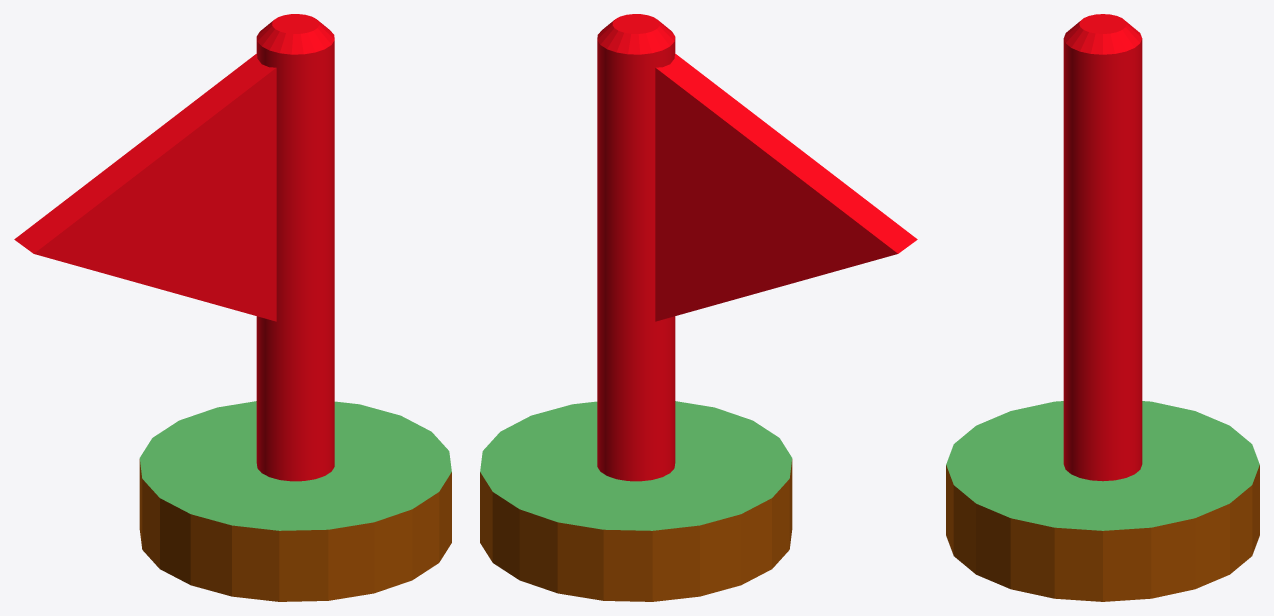
The model's file is EndMarker.fbx.
3 renders of one model, left to right at view 1: azimuth 30°, elevation 25°; view 2: azimuth 150°, elevation 25°; view 3: azimuth 270°, elevation 25°, orthographic.
Visible parts, largest first — view 1: EndMarker; view 2: EndMarker; view 3: EndMarker.
Boxes of the visible parts, x1,y1,x2,y2 form: EndMarker: (14, 14, 451, 601); EndMarker: (480, 14, 917, 601); EndMarker: (946, 14, 1259, 601).
Bounding box in the file's own units: 120 × 144 × 80.
